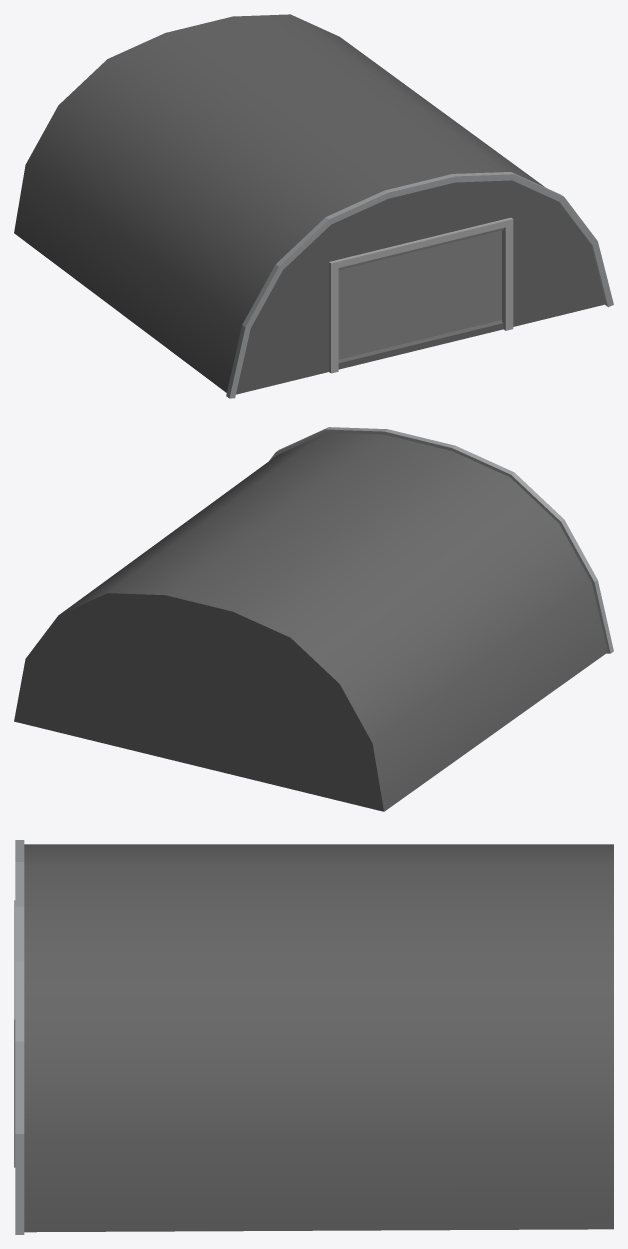
The model's file is Hangar_1 1.fbx.
3 views of the same model, one above another, from view 1: azimuth 30°, elevation 25°; view 2: azimuth 150°, elevation 25°; view 3: azimuth 270°, elevation 25° (orthographic). The views are drawn at different scales.
Parts seen in each view (by area): view 1: Hangar_1; view 2: Hangar_1; view 3: Hangar_1.
Boxes of the visible parts, x1=… form: Hangar_1: x1=14, y1=14, x2=613, y2=398; Hangar_1: x1=14, y1=427, x2=613, y2=811; Hangar_1: x1=14, y1=840, x2=613, y2=1234.
Bounding box in the file's own units: 796 × 332 × 800.
